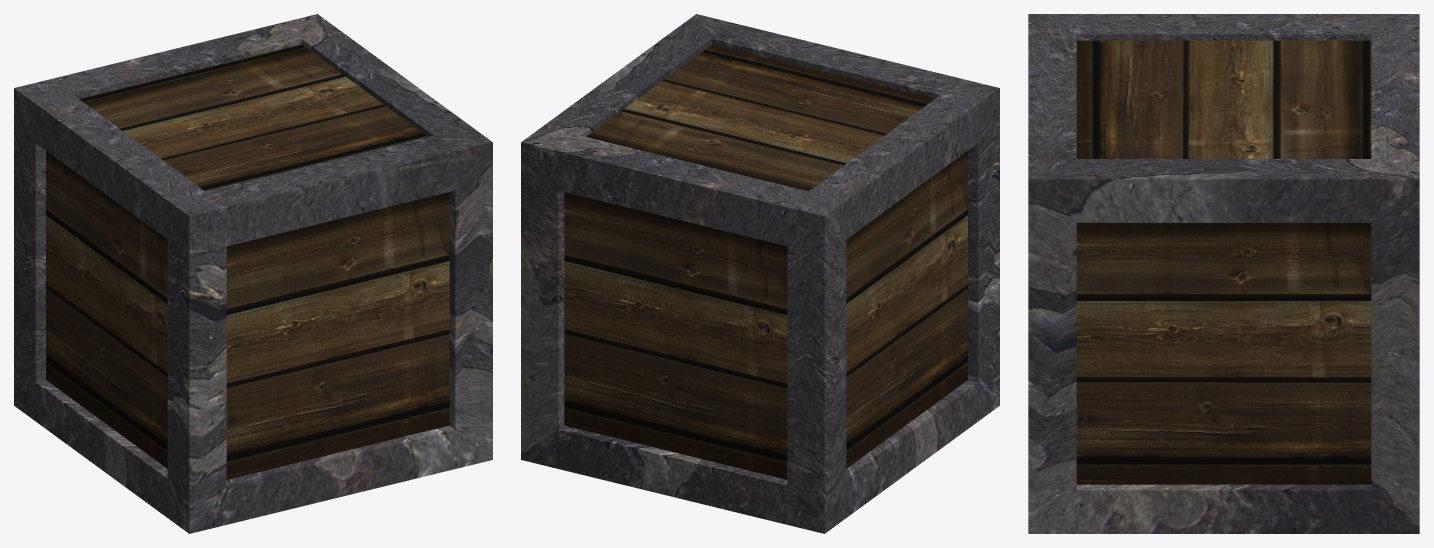
The picture shows the model from 3 angles, left to right: view 1: azimuth 30°, elevation 25°; view 2: azimuth 150°, elevation 25°; view 3: azimuth 270°, elevation 25°; orthographic projection. The views are drawn at different scales.
Parts seen in each view (by area): view 1: box wooden, box metal; view 2: box wooden, box metal; view 3: box wooden, box metal.
Boxes of the visible parts, left/top/right/bottom form: box wooden: left=46, top=44, right=449, bottom=479; box metal: left=14, top=14, right=492, bottom=533; box wooden: left=564, top=44, right=967, bottom=479; box metal: left=521, top=14, right=999, bottom=533; box wooden: left=1076, top=40, right=1371, bottom=484; box metal: left=1028, top=14, right=1419, bottom=533.
Size of the model in its own units: 227 by 227 by 227.
2 materials, 2 textured.
